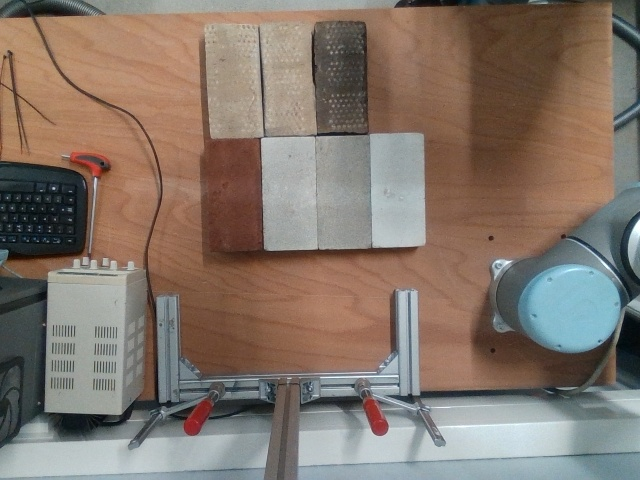brick: (262, 137, 317, 248), (316, 135, 370, 248), (371, 133, 424, 246), (207, 27, 259, 137), (261, 27, 314, 131), (208, 141, 259, 249), (318, 23, 362, 131)
